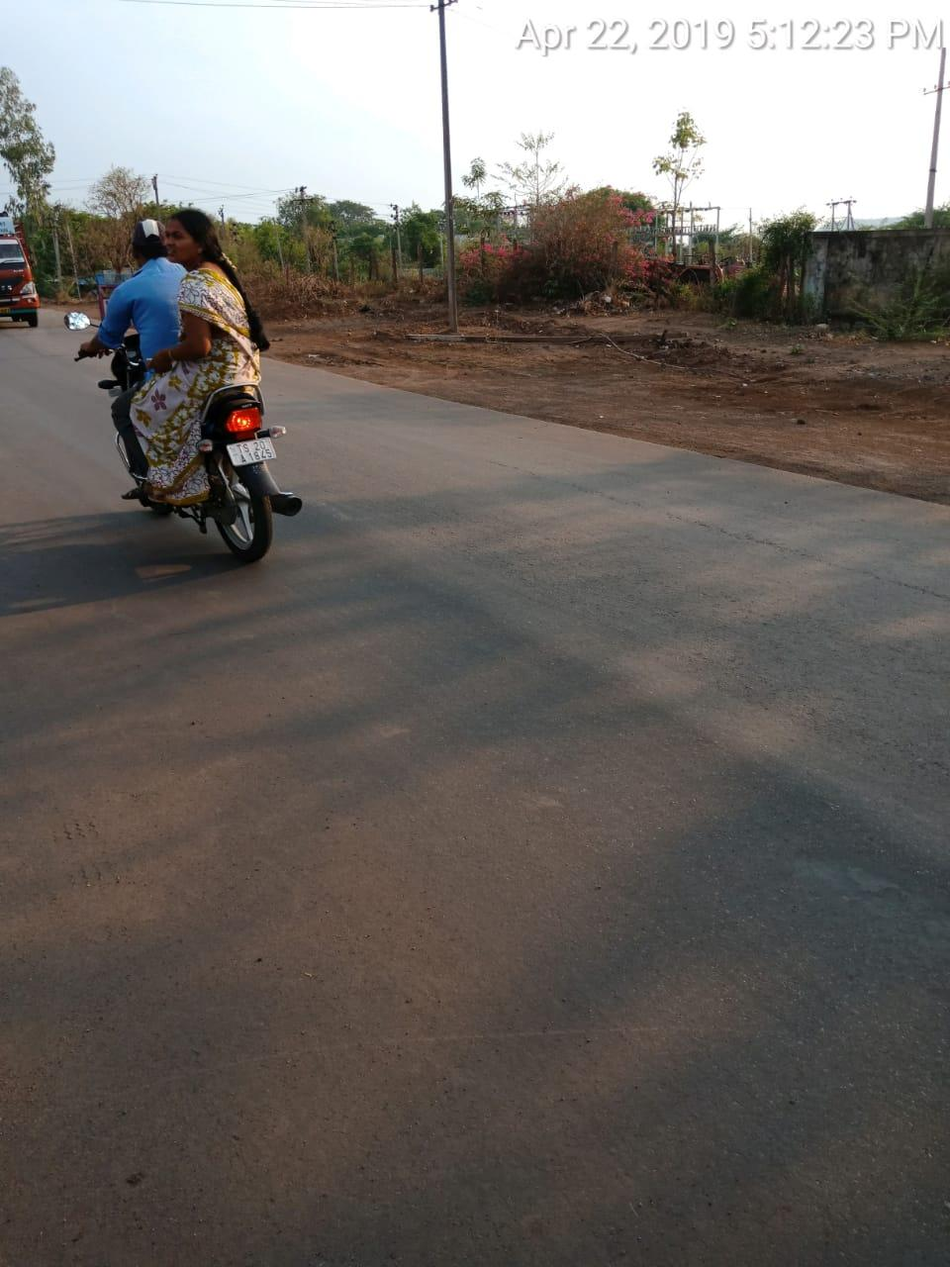plate: (214, 433, 292, 471)
